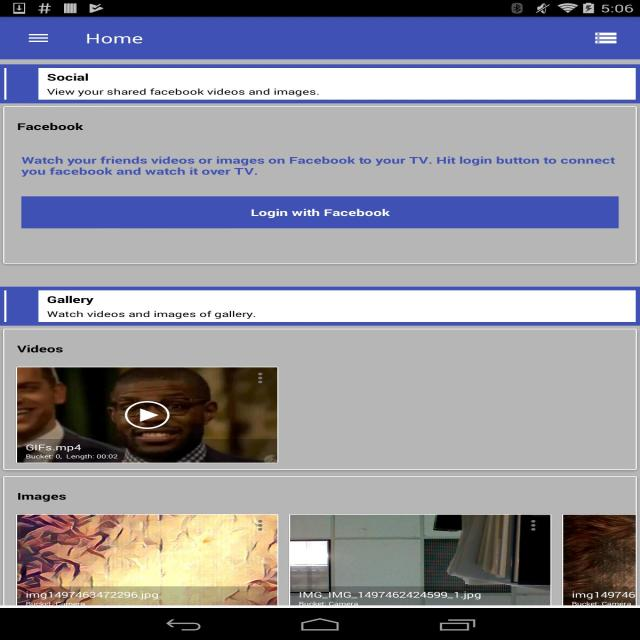button: (22, 196, 620, 228), (562, 515, 640, 606), (106, 396, 178, 433), (21, 29, 55, 51), (590, 29, 623, 49), (522, 515, 548, 539), (248, 370, 274, 387), (250, 516, 268, 534)
heading: (81, 32, 149, 50), (15, 120, 90, 134), (15, 342, 71, 358), (46, 292, 100, 308), (16, 491, 68, 504), (46, 70, 89, 84)
image: (17, 367, 277, 462), (18, 515, 279, 607), (291, 514, 551, 606)
text: (19, 154, 622, 178), (47, 88, 320, 99), (46, 310, 258, 320)
